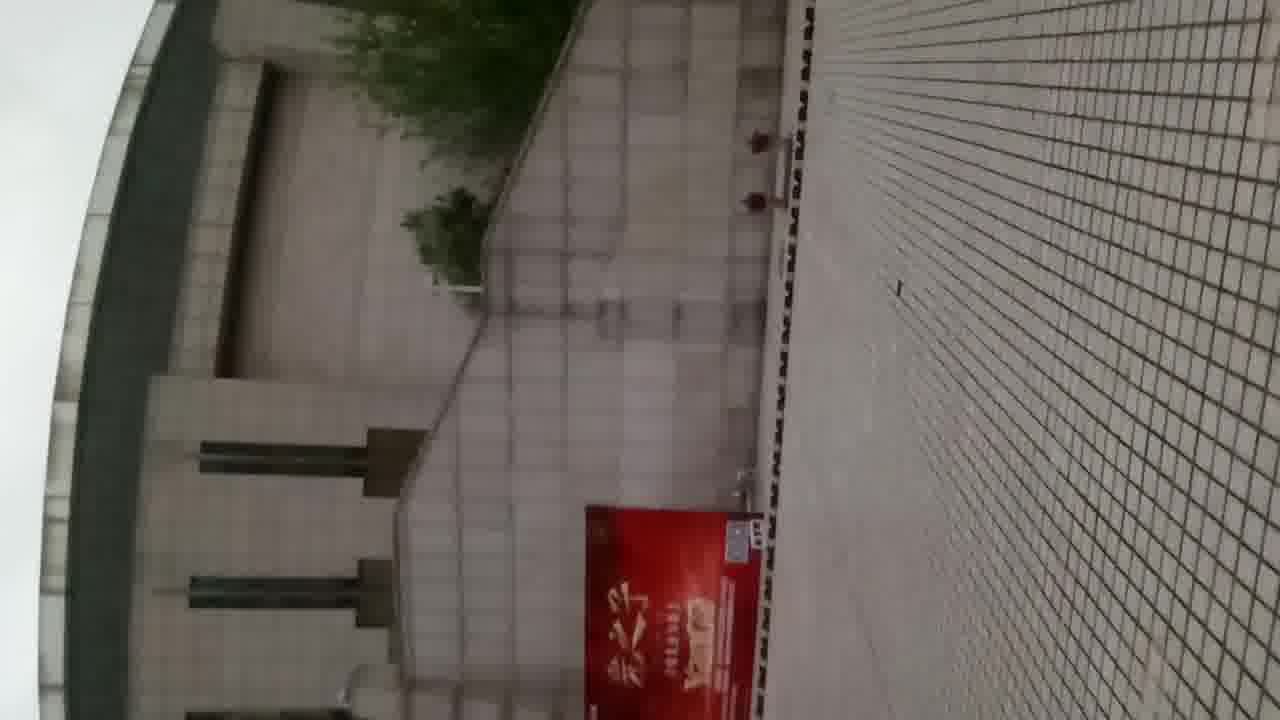zhongtiww: (20, 6, 789, 720)
